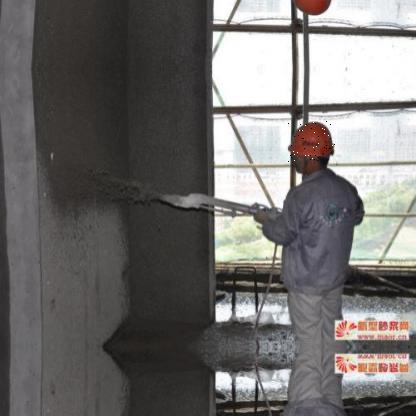safetyhelmet: (285, 122, 341, 164)
